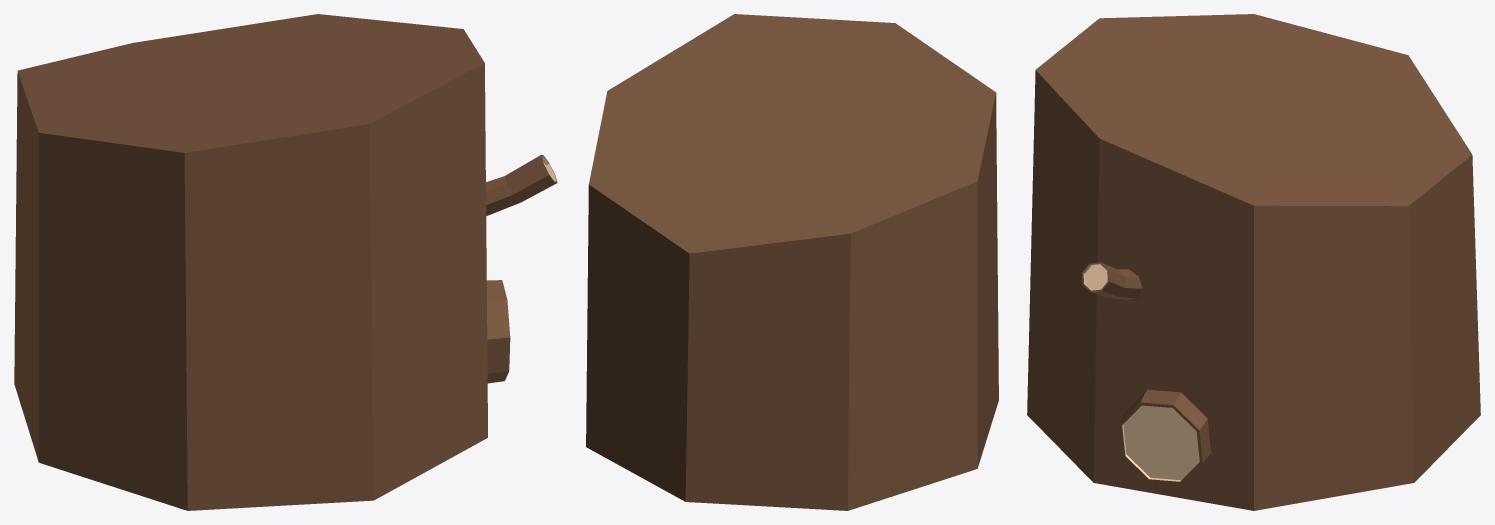
The model's file is Kutük.fbx.
The picture shows the model from 3 angles, left to right: view 1: azimuth 30°, elevation 25°; view 2: azimuth 150°, elevation 25°; view 3: azimuth 270°, elevation 25°; orthographic projection. The views are drawn at different scales.
Parts seen in each view (by area): view 1: Cylinder.004; view 2: Cylinder.004; view 3: Cylinder.004.
Part boxes in pixels (x1=…): Cylinder.004: x1=14, y1=14, x2=557, y2=510; Cylinder.004: x1=586, y1=14, x2=998, y2=510; Cylinder.004: x1=1027, y1=14, x2=1480, y2=510.
Bounding box in the file's own units: 0.5813 × 0.4774 × 0.5686.
